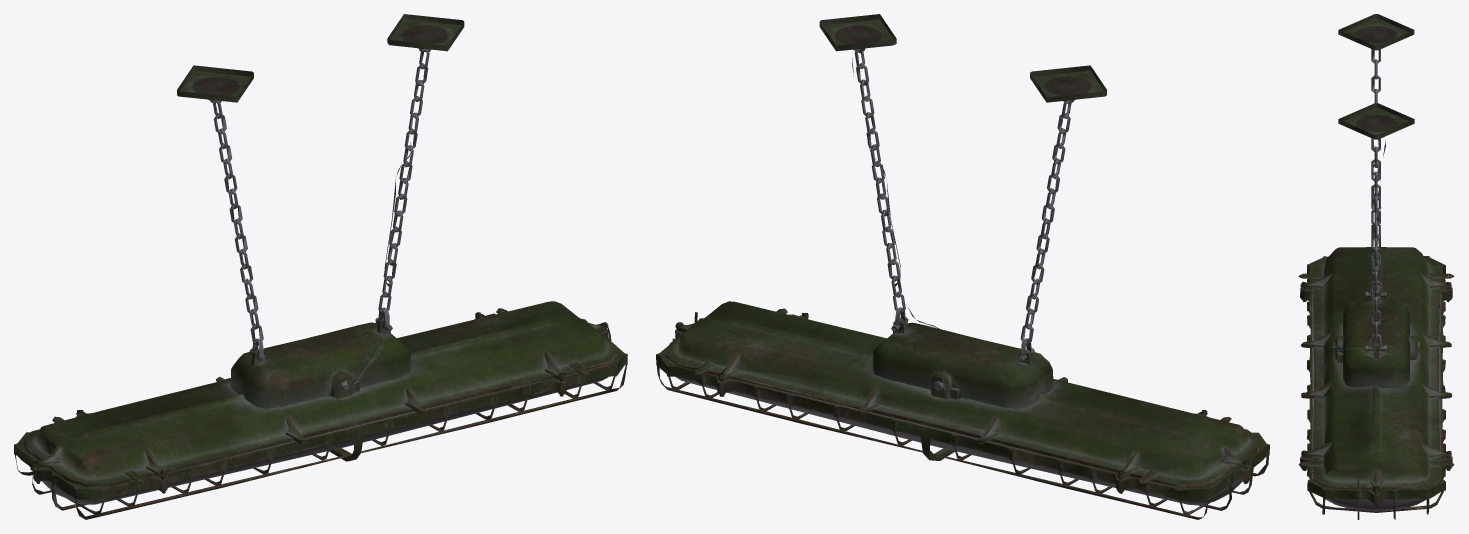
The model's file is lamp-caged-hanging.86118f46.glb.
3 views of the same model, side by side, from view 1: azimuth 30°, elevation 25°; view 2: azimuth 150°, elevation 25°; view 3: azimuth 270°, elevation 25° (orthographic). The views are drawn at different scales.
Visible parts, largest first — view 1: model; view 2: model; view 3: model.
Boxes of the visible parts, bbox=[...] form: model: bbox=[14, 14, 627, 519]; model: bbox=[656, 14, 1269, 519]; model: bbox=[1298, 14, 1454, 519].
Bounding box in the file's own units: 1.16 × 0.7501 × 0.3149.
Materials: 1 (1 with a texture image).
